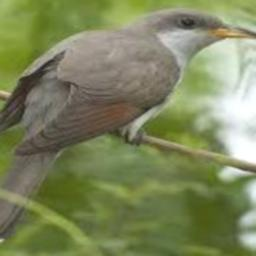Cuckoo: (0, 8, 256, 248)
